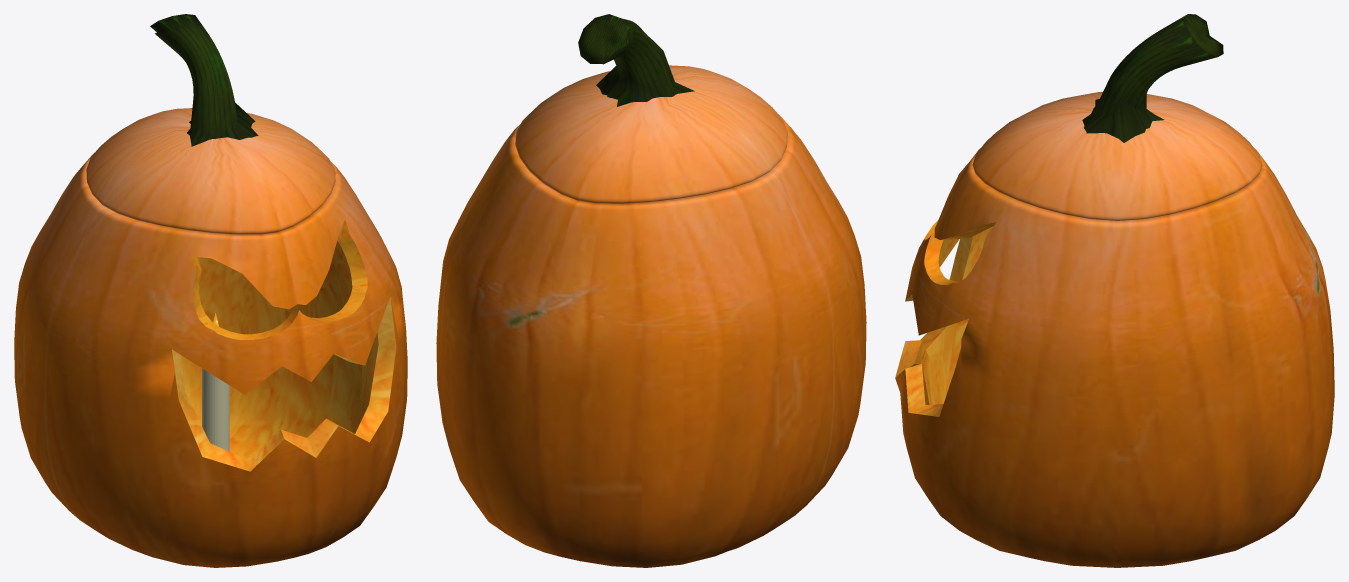
Rendered from pumpkin4_candel.glb.
3 views of the same model, side by side, from view 1: azimuth 30°, elevation 25°; view 2: azimuth 150°, elevation 25°; view 3: azimuth 270°, elevation 25° (orthographic). The views are drawn at different scales.
Parts seen in each view (by area): view 1: backR_pumpkin_body; view 2: backR_pumpkin_body; view 3: backR_pumpkin_body.
Part boxes in pixels (x1,y1,x2,y2): backR_pumpkin_body: [14, 14, 407, 567]; backR_pumpkin_body: [436, 14, 866, 567]; backR_pumpkin_body: [895, 14, 1334, 567].
Size of the model in its own units: 8.26 by 11.39 by 8.93.
Materials: 6 (5 with a texture image).
